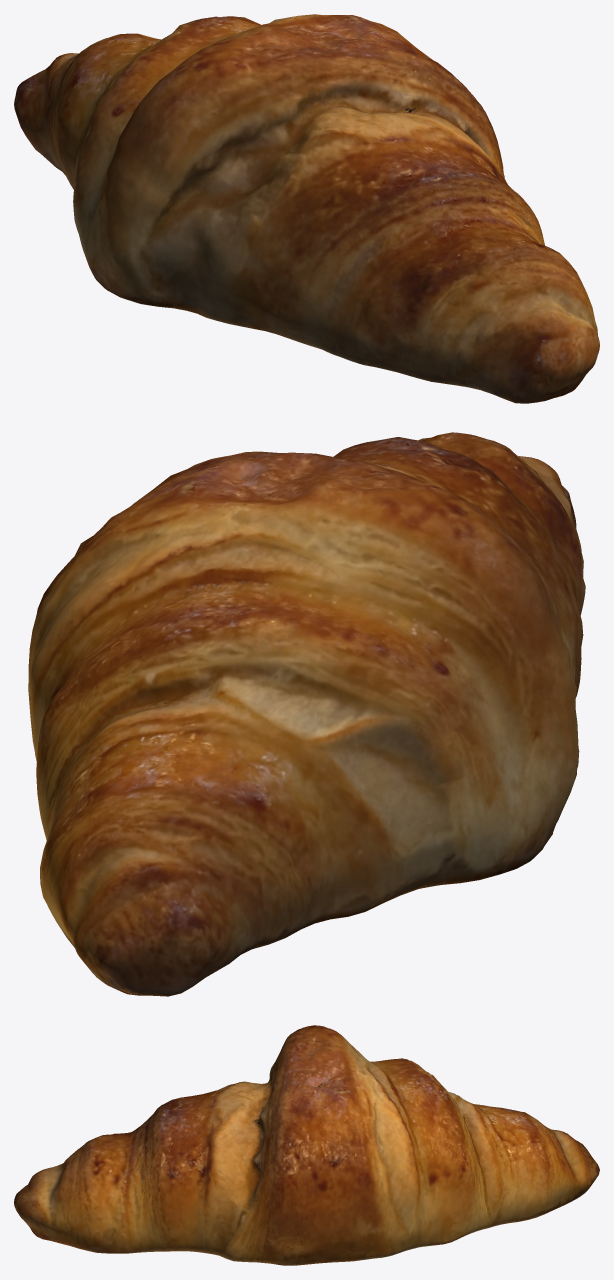
The model's file is Croassaint_fbx.fbx.
The picture shows the model from 3 angles, top to bottom: view 1: azimuth 30°, elevation 25°; view 2: azimuth 150°, elevation 25°; view 3: azimuth 270°, elevation 25°; orthographic projection. The views are drawn at different scales.
Parts seen in each view (by area): view 1: Croissant_UV; view 2: Croissant_UV; view 3: Croissant_UV.
Boxes of the visible parts, x1,y1,x2,y2 form: Croissant_UV: (14, 14, 599, 403); Croissant_UV: (28, 432, 585, 996); Croissant_UV: (14, 1025, 599, 1265).
Size of the model in its own units: 36.44 by 22.06 by 73.25.
